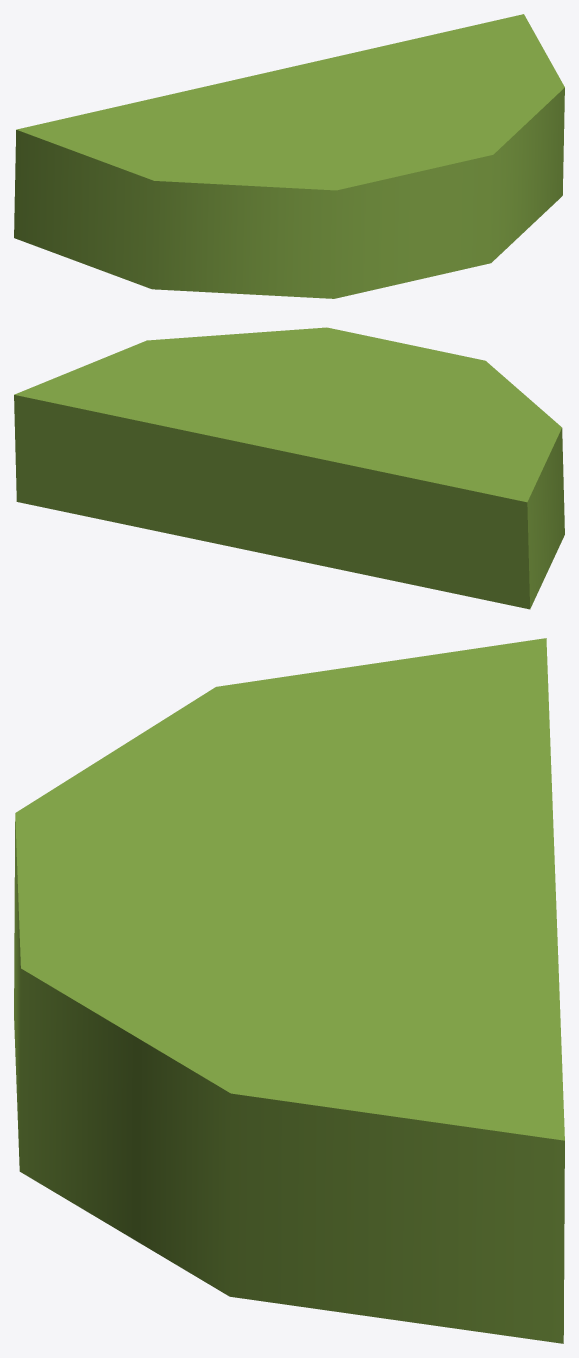
Rendered from SM_Shape_Half_Circle__01.fbx.
3 renders of one model, top to bottom at view 1: azimuth 30°, elevation 25°; view 2: azimuth 150°, elevation 25°; view 3: azimuth 270°, elevation 25°, orthographic. The views are drawn at different scales.
Visible parts, largest first — view 1: SM_Shape_Half_Circle__01; view 2: SM_Shape_Half_Circle__01; view 3: SM_Shape_Half_Circle__01.
Boxes of the visible parts, box(x1,y1,x2,y2) form: SM_Shape_Half_Circle__01: box(14, 14, 564, 298); SM_Shape_Half_Circle__01: box(14, 327, 564, 609); SM_Shape_Half_Circle__01: box(14, 638, 564, 1343).
Size of the model in its own units: 8.44 by 1.89 by 4.1.
